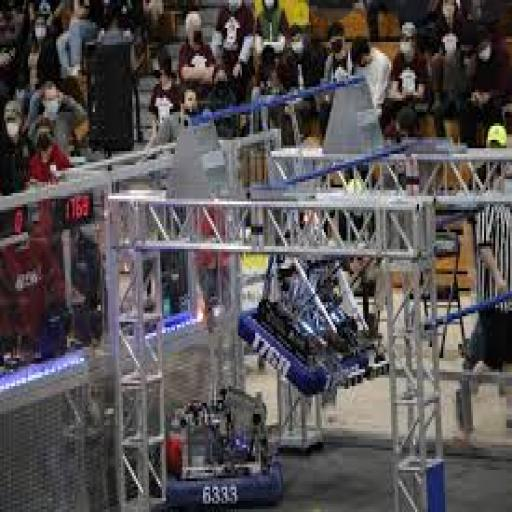robot: (235, 156, 387, 394), (145, 375, 283, 506)
